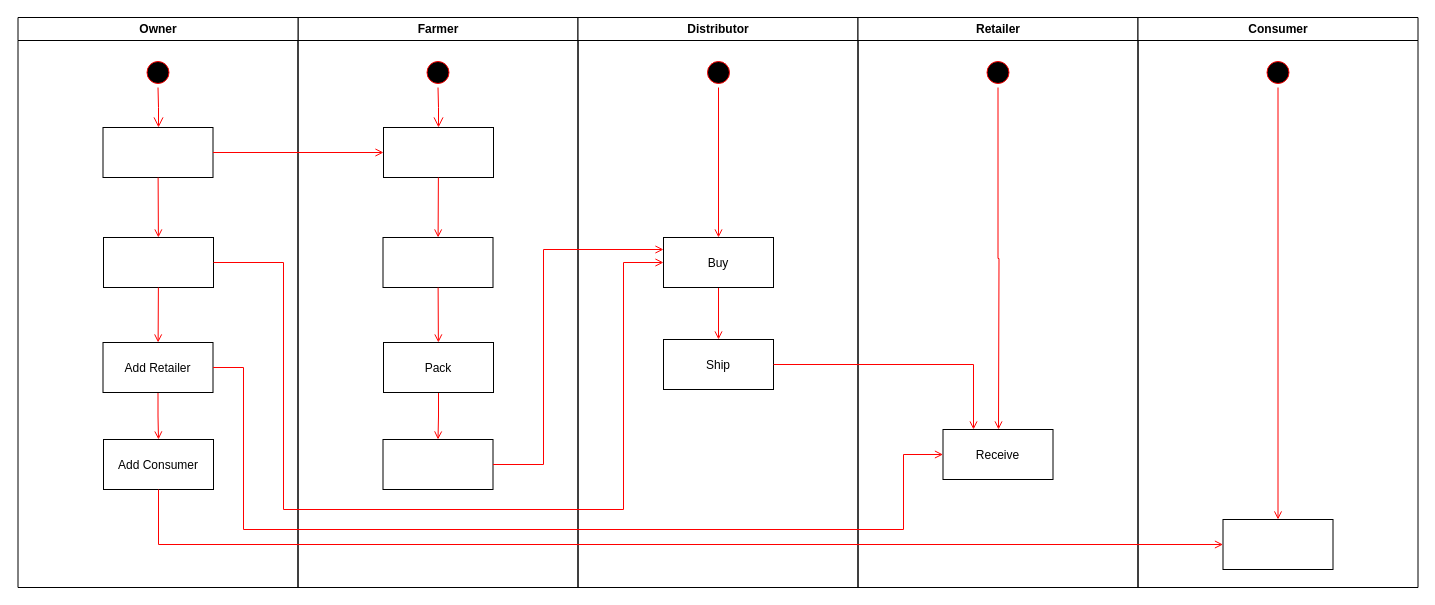
This 1435x605 diagram has some shape labels left out. The centre of each missing label's shape, as x and y in pixels:
"Add Distributor" belongs at pixel 158 262.
"Add Farmer" belongs at pixel 157 152.
"For Sale" belongs at pixel 437 464.
"Harvest" belongs at pixel 438 152.
"Process" belongs at pixel 437 262.
"Purchase" belongs at pixel 1277 544.
